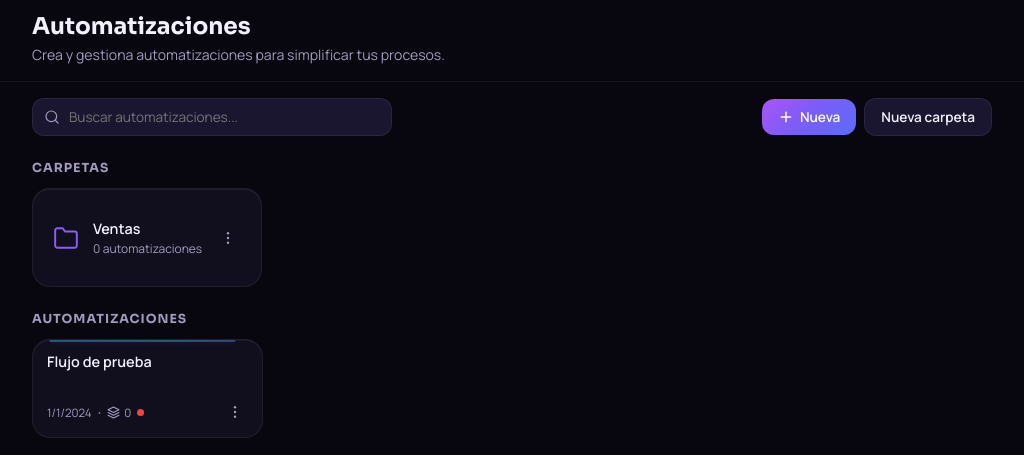
Test case: el menú se cierra como debe › con Escape
Check: the text "Ventas" is shown, box [93,219,140,238]
Click the button named "Acciones para Ventas" at (228, 238), box [214,225,240,251]
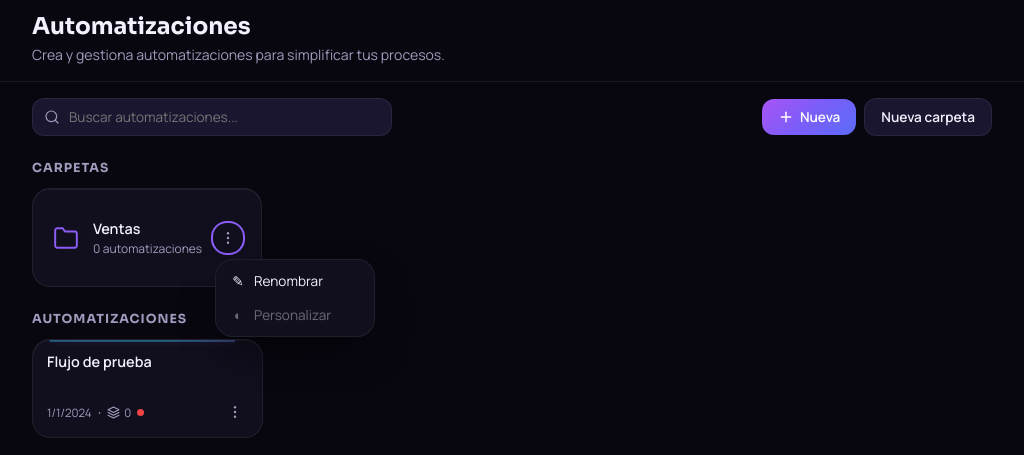
Check: the menu is shown, box [215,259,375,337]
Press Escape
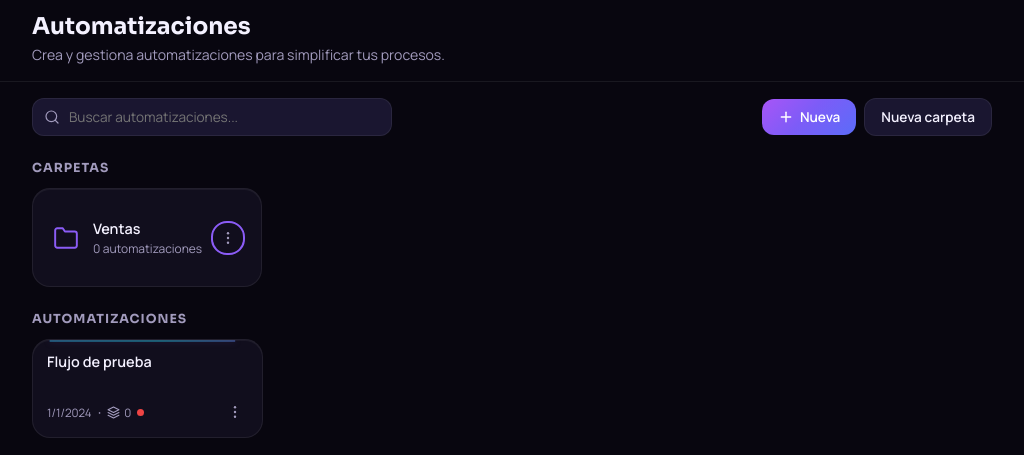
Check: the menu is gone
